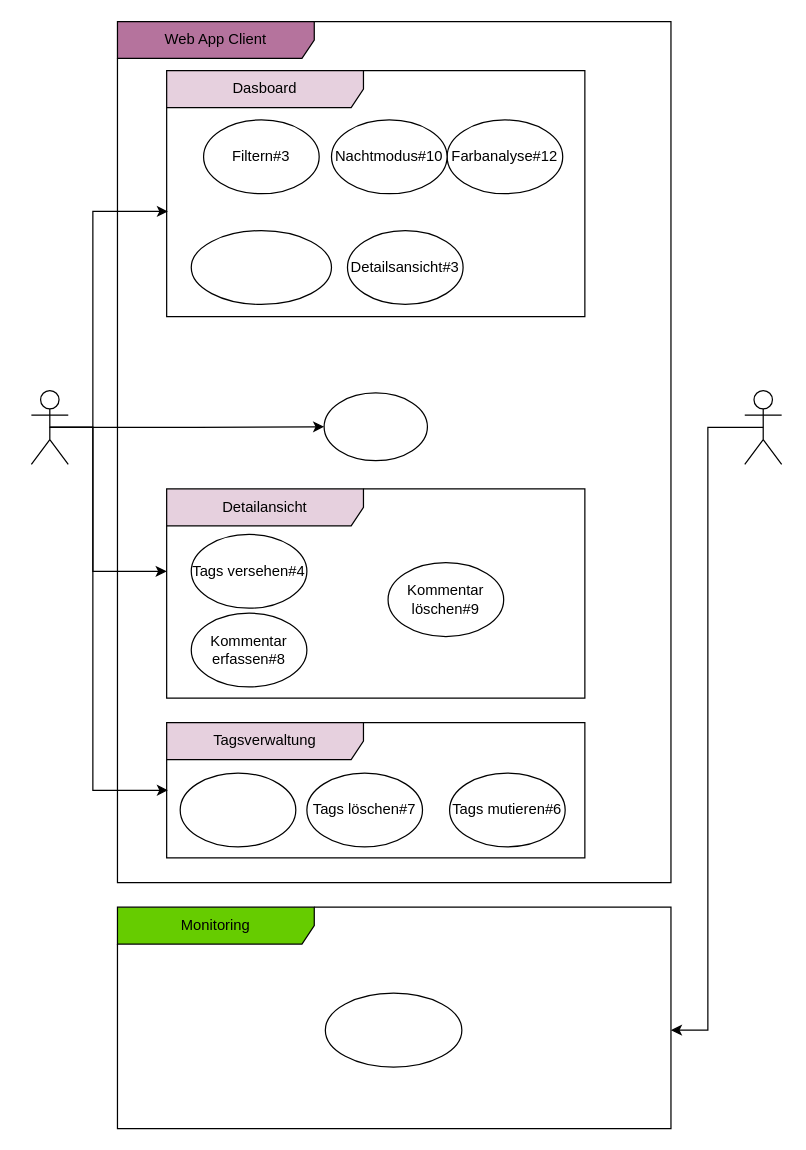
This 806x1150 diagram has some shape labels left out. Here are the shapes that lost their labels. From the top down, the centre of each, then its label:
At pixel 260 266: "Spracheändern#11".
At pixel 49 426: "Forscher".
At pixel 375 426: "Login#1".
At pixel 763 426: "Admin".
At pixel 237 809: "Tags hinzufügen#5".
At pixel 393 1029: "Logsmonitoren#13".
